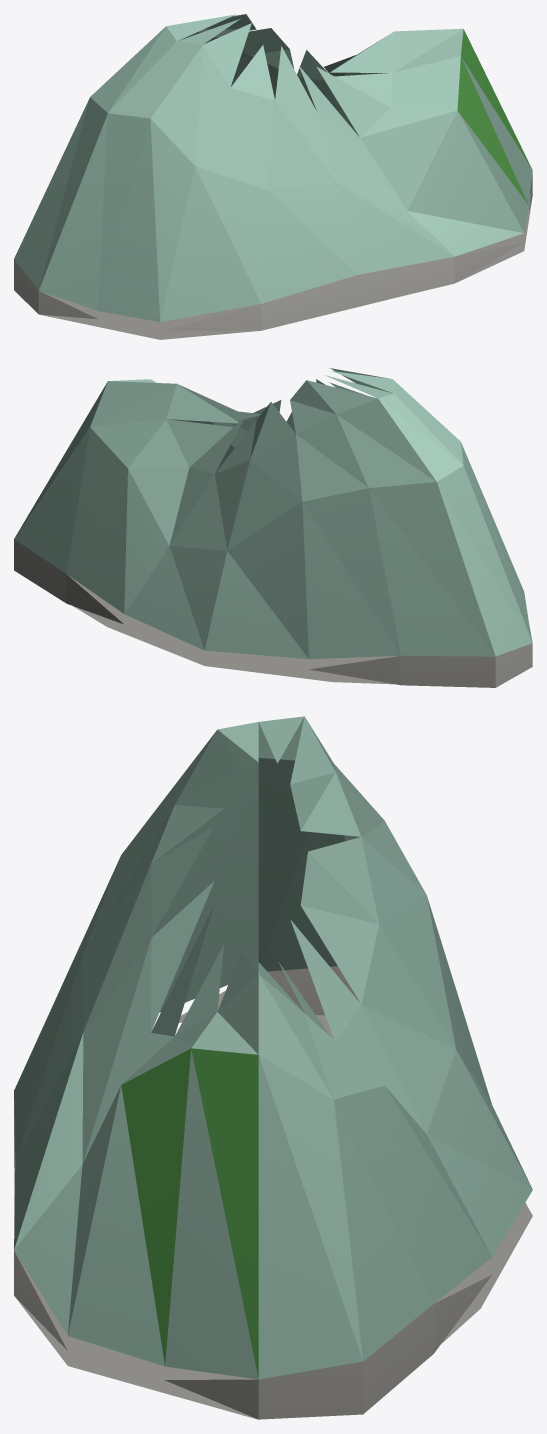
File: paper-hill-lo.glb
3 views of the same model, one above another, from view 1: azimuth 30°, elevation 25°; view 2: azimuth 150°, elevation 25°; view 3: azimuth 270°, elevation 25° (orthographic). The views are drawn at different scales.
Visible parts, largest first — view 1: root_mesh; view 2: root_mesh; view 3: root_mesh.
Boxes of the visible parts, left/top/right/bottom form: root_mesh: left=14, top=14, right=532, bottom=339; root_mesh: left=14, top=368, right=532, bottom=687; root_mesh: left=14, top=716, right=532, bottom=1419.
Size of the model in its own units: 5.2 by 2.48 by 2.8.
